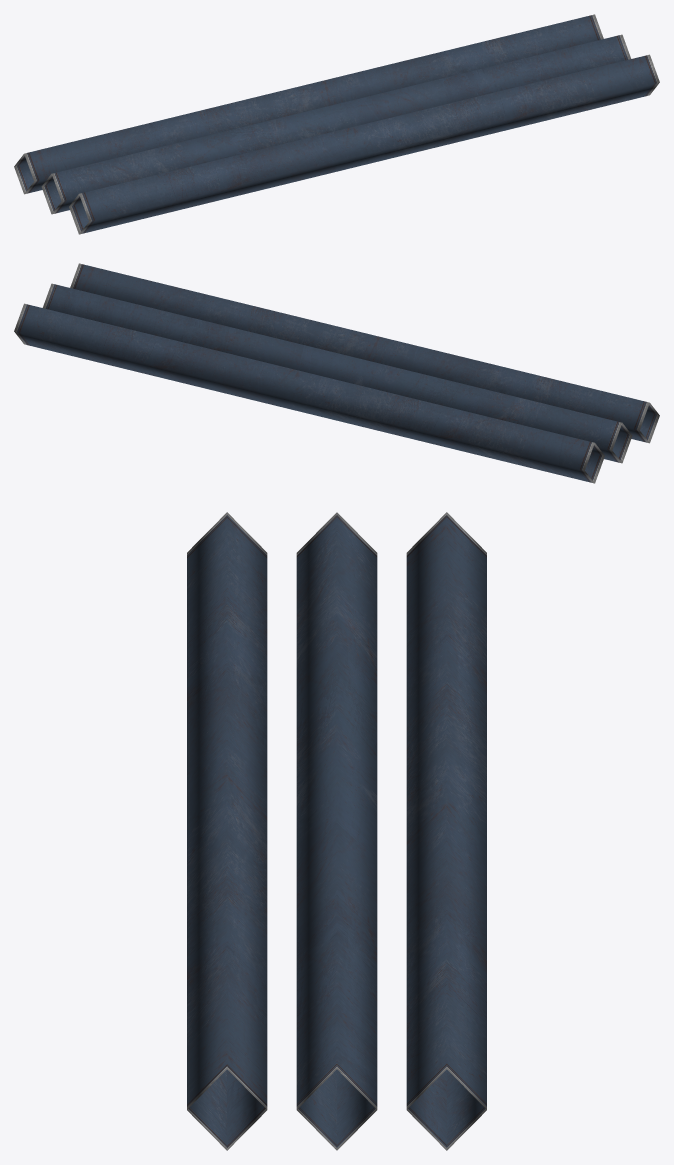
Rendered from Pipe3_A_L2.fbx.
3 views of the same model, one above another, from view 1: azimuth 30°, elevation 25°; view 2: azimuth 150°, elevation 25°; view 3: azimuth 270°, elevation 25° (orthographic). The views are drawn at different scales.
Visible parts, largest first — view 1: PIpe3_A_L2; view 2: PIpe3_A_L2; view 3: PIpe3_A_L2.
Boxes of the visible parts, x1=… form: PIpe3_A_L2: x1=14, y1=14, x2=659, y2=234; PIpe3_A_L2: x1=14, y1=263, x2=659, y2=483; PIpe3_A_L2: x1=187, y1=512, x2=486, y2=1150.
Size of the model in its own units: 200 by 13.66 by 45.56.
